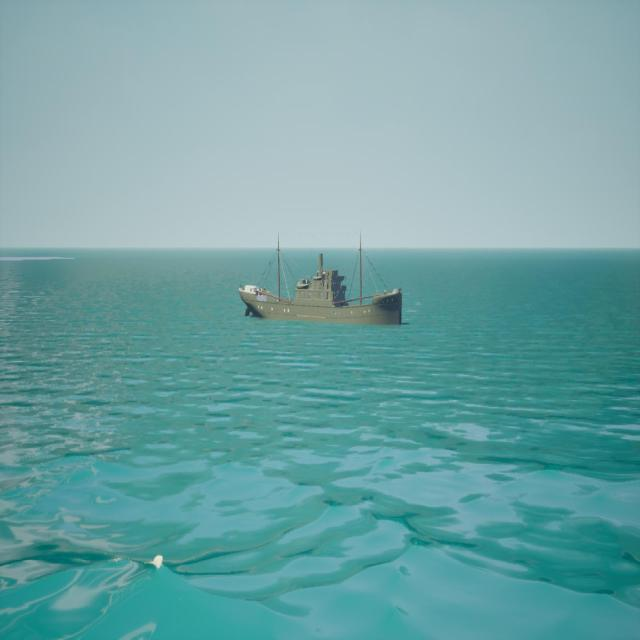fishing ship: (239, 234, 404, 327)
